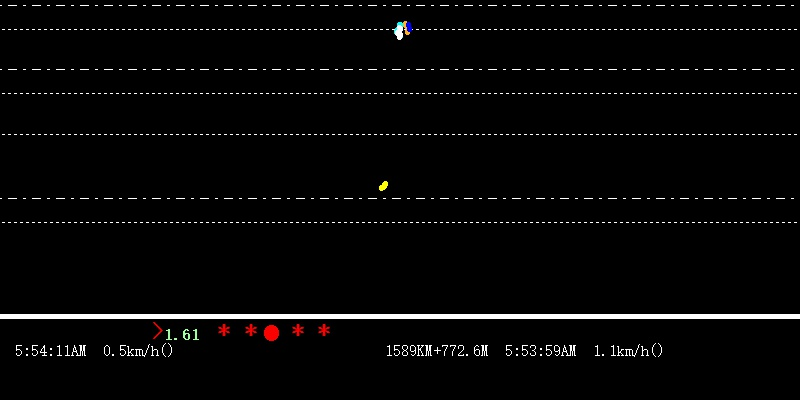circle: (262, 322, 278, 341)
face_2: (393, 18, 413, 41)
star: (215, 321, 233, 340), (242, 322, 259, 340), (317, 321, 333, 340), (290, 322, 305, 341)
